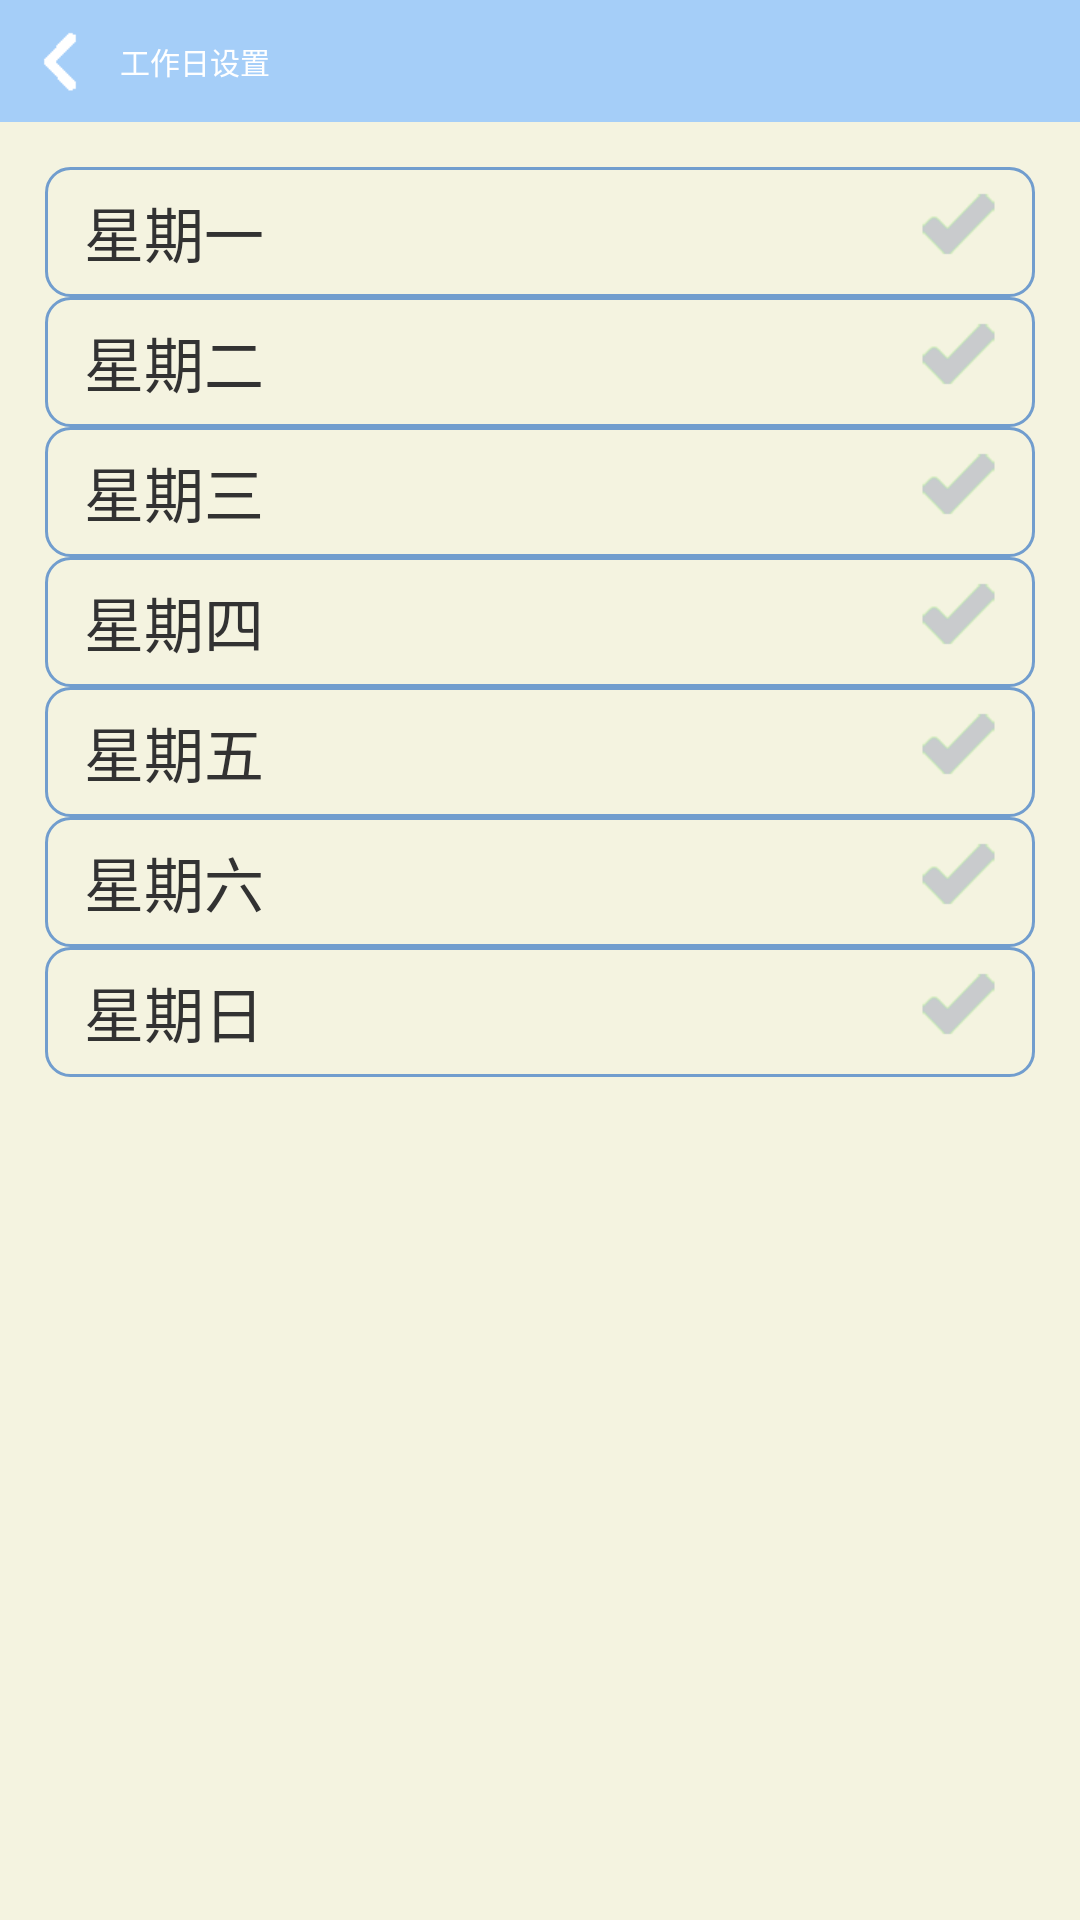

Screen size 1080w x 1920h. Icon name, then its center in pixels as (x,y):
weekday selcect: (958,224), (958,354), (958,484), (958,614), (958,744), (958,874), (958,1004)
